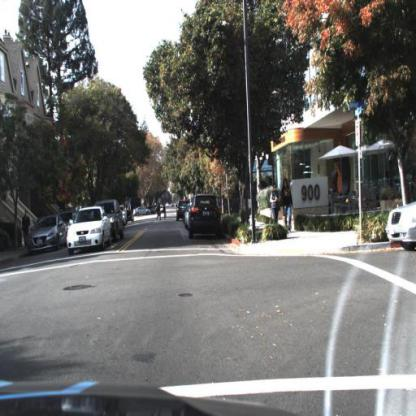car: (68, 206, 110, 252), (384, 189, 416, 249), (190, 192, 224, 241), (28, 215, 67, 250), (100, 198, 126, 239), (176, 198, 188, 226), (62, 208, 76, 226), (134, 206, 153, 219)
pedestrian: (281, 178, 294, 234), (270, 180, 280, 228), (21, 210, 32, 253), (23, 207, 30, 248), (156, 201, 164, 224), (163, 202, 170, 222)
